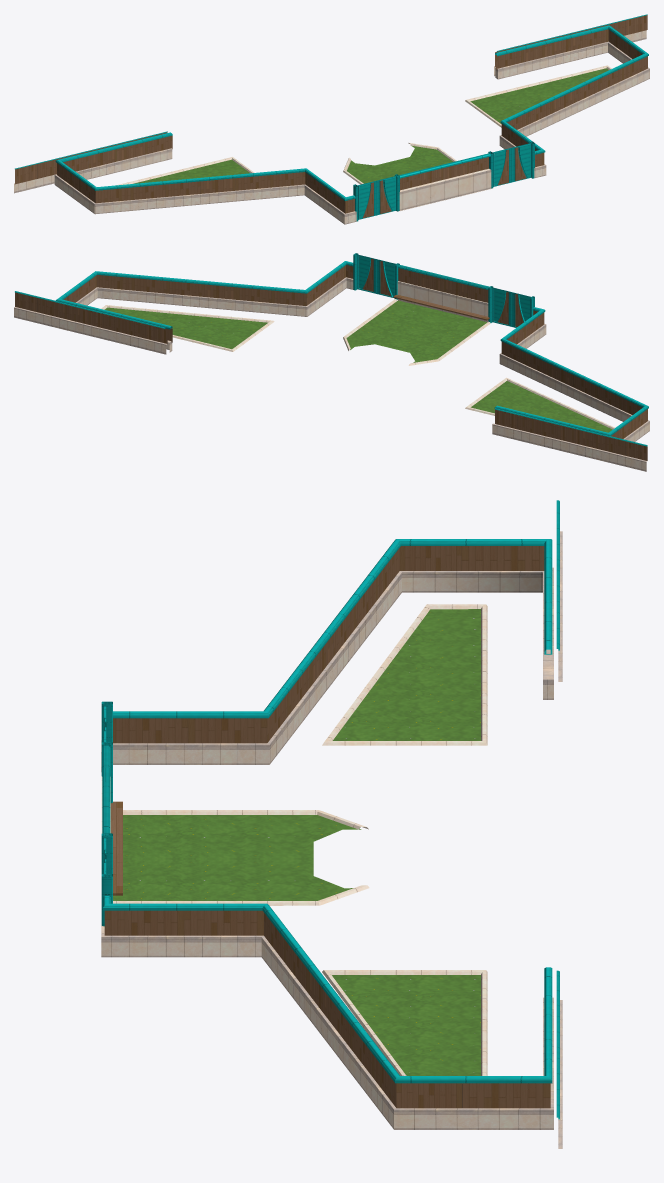
The model's file is MidGarden_Assets.fbx.
3 renders of one model, top to bottom at view 1: azimuth 30°, elevation 25°; view 2: azimuth 150°, elevation 25°; view 3: azimuth 270°, elevation 25°, orthographic. The views are drawn at different scales.
Visible parts, largest first — view 1: MidGarden_Assets; view 2: MidGarden_Assets; view 3: MidGarden_Assets.
Part boxes in pixels (box(x1,y1,x2,y2)): MidGarden_Assets: box(14, 14, 649, 224); MidGarden_Assets: box(14, 253, 649, 471); MidGarden_Assets: box(101, 500, 562, 1148).
Size of the model in its own units: 8762 by 471 by 2766.
